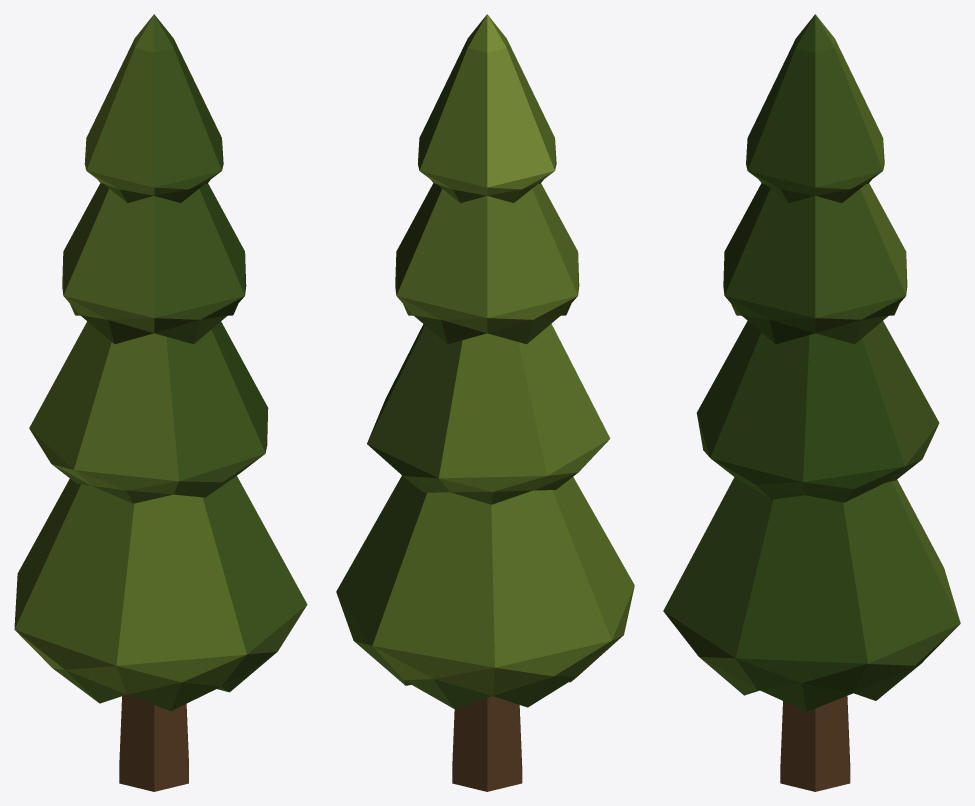
Rendered from tree_pine_tall.glb.
3 views of the same model, side by side, from view 1: azimuth 30°, elevation 25°; view 2: azimuth 150°, elevation 25°; view 3: azimuth 270°, elevation 25° (orthographic).
Visible parts, largest first — view 1: tree_pine_tall; view 2: tree_pine_tall; view 3: tree_pine_tall.
Boxes of the visible parts, x1,y1,x2,y2 form: tree_pine_tall: (14,14,307,791); tree_pine_tall: (336,14,634,791); tree_pine_tall: (663,14,960,791).
Size of the model in its own units: 0.3676 by 1.04 by 0.3687.
